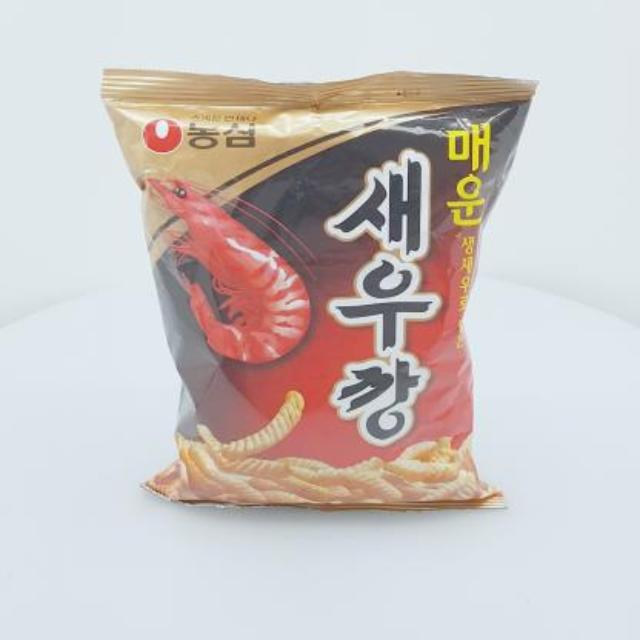snack_bag: (96, 54, 542, 524)
